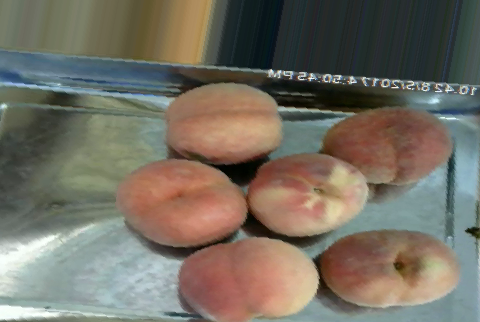Peach: (177, 235, 319, 321), (116, 157, 248, 247), (318, 230, 459, 306), (322, 106, 451, 187), (248, 153, 372, 236), (165, 82, 282, 163)
